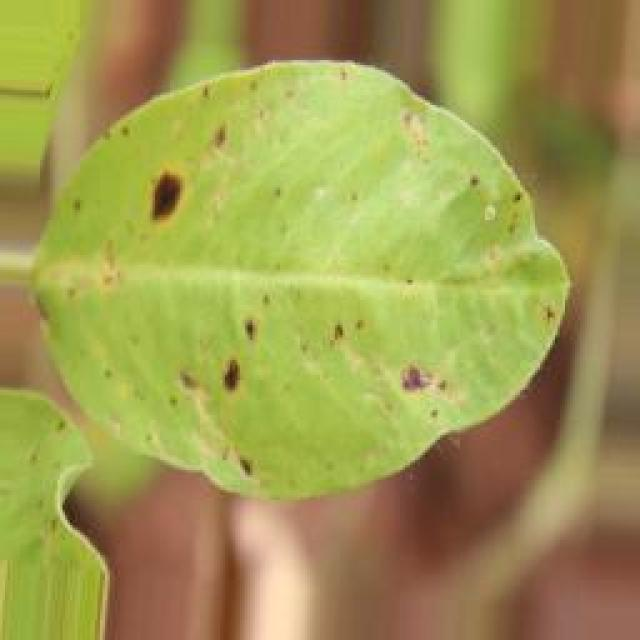Yellowish: (38, 75, 538, 470)
